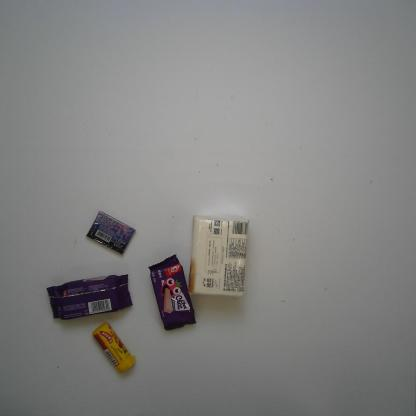Candy: (92, 319, 142, 375)
Dessert: (43, 271, 134, 322), (147, 252, 196, 332)
Gum: (84, 209, 136, 256)
Tissue: (186, 213, 250, 299)
